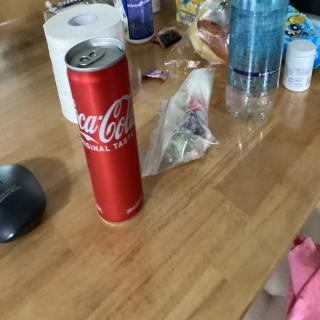cocacola: (51, 26, 148, 228)
